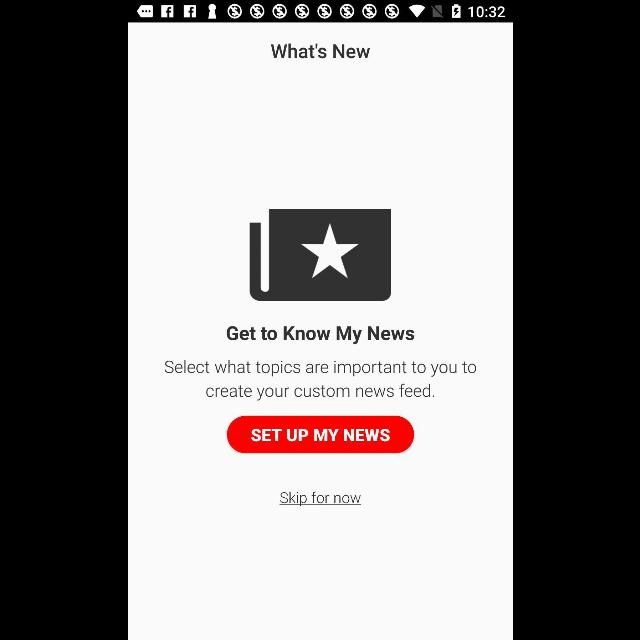icon: (249, 209, 391, 301)
text: (164, 360, 476, 400), (226, 326, 414, 344), (270, 44, 370, 58), (278, 492, 360, 506)
textbutton: (226, 415, 414, 453)
uppertaskbar: (128, 1, 512, 23)
